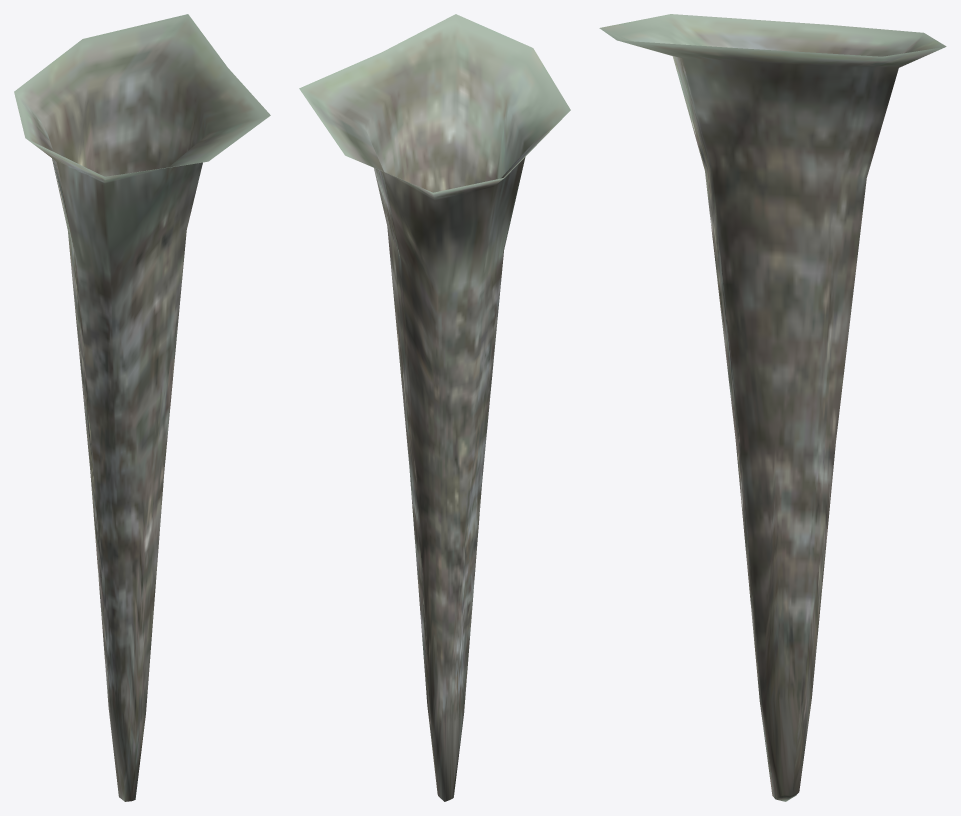
File: TROLLHOLE02_PS-MAINSTALAG12.fbx
The picture shows the model from 3 angles, left to right: view 1: azimuth 30°, elevation 25°; view 2: azimuth 150°, elevation 25°; view 3: azimuth 270°, elevation 25°; orthographic projection. The views are drawn at different scales.
Parts seen in each view (by area): view 1: TROLLHOLE02_PS-MAINSTALAG12; view 2: TROLLHOLE02_PS-MAINSTALAG12; view 3: TROLLHOLE02_PS-MAINSTALAG12.
Boxes of the visible parts, left/top/right/bottom form: TROLLHOLE02_PS-MAINSTALAG12: left=14, top=14, right=270, bottom=801; TROLLHOLE02_PS-MAINSTALAG12: left=299, top=14, right=570, bottom=801; TROLLHOLE02_PS-MAINSTALAG12: left=599, top=14, right=946, bottom=801.
Size of the model in its own units: 10831 by 40608 by 15970.
Materials: 1 (1 with a texture image).
